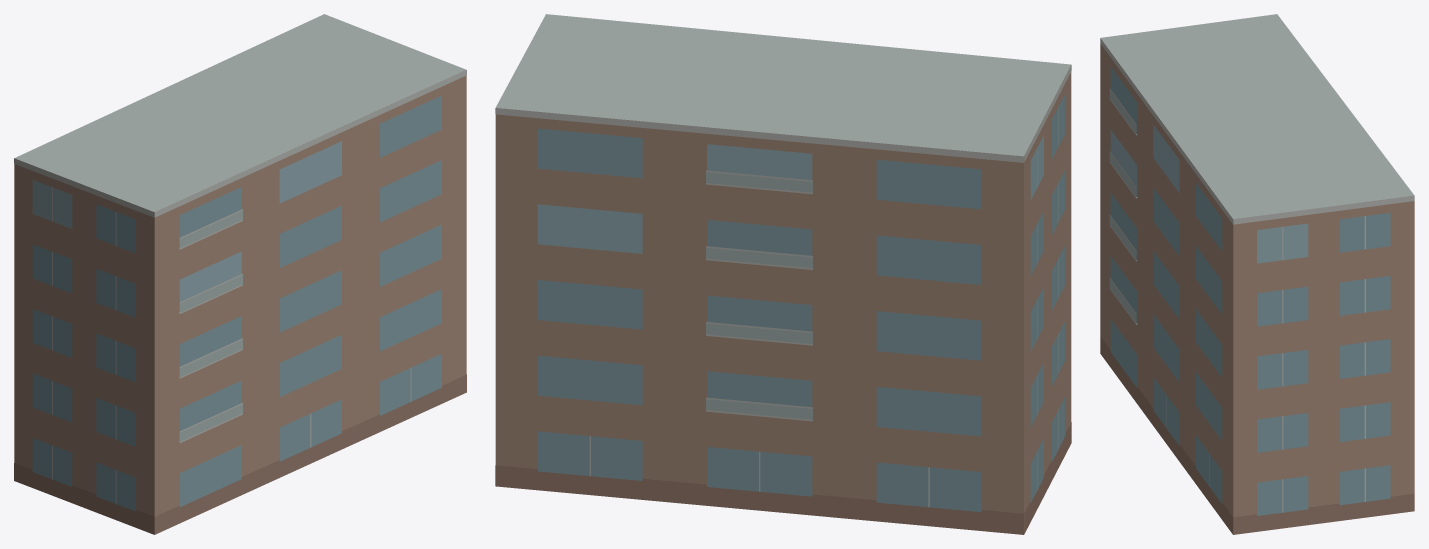
The model's file is survey-upis-32905736.glb.
3 renders of one model, left to right at view 1: azimuth 30°, elevation 25°; view 2: azimuth 150°, elevation 25°; view 3: azimuth 270°, elevation 25°, orthographic. The views are drawn at different scales.
Visible parts, largest first — view 1: survey-upis-32905736.tmp; view 2: survey-upis-32905736.tmp; view 3: survey-upis-32905736.tmp.
Boxes of the visible parts, x1,y1,x2,y2 form: survey-upis-32905736.tmp: (14, 14, 466, 534); survey-upis-32905736.tmp: (495, 14, 1071, 534); survey-upis-32905736.tmp: (1100, 14, 1414, 534).
Bounding box in the file's own units: 19.81 × 14.2 × 12.83.
